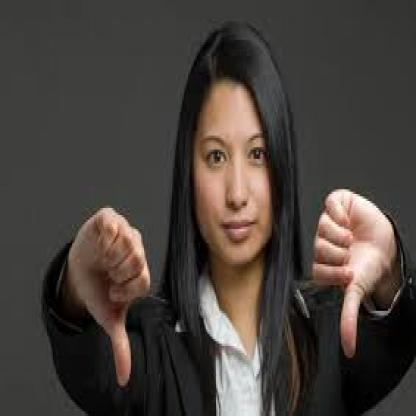thumb_down: (64, 200, 153, 391), (308, 174, 392, 359)
